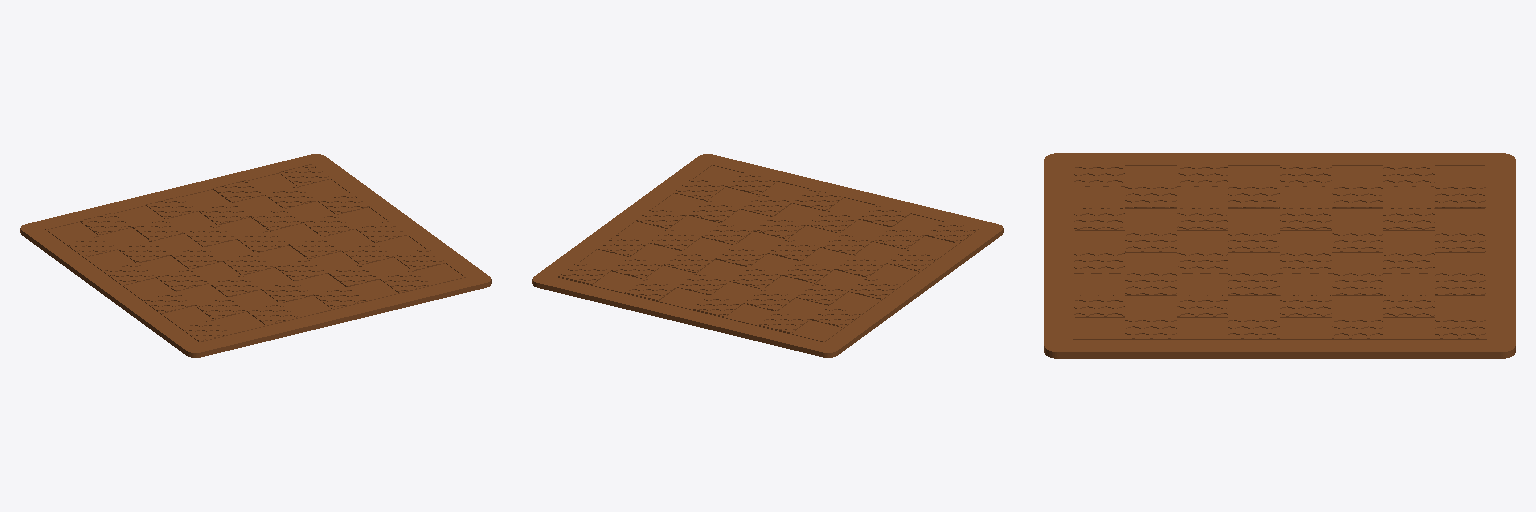
URDF robot description (the_turk_chess_environment):
<?xml version="1.0"?>

<robot name="the_turk_chess_environment">

    <!-- ================================================== -->
    <!-- WORLD                                              -->
    <!-- ================================================== -->

    <link name="world"/>


    <!-- ================================================== -->
    <!-- CHESS BOARD                                        -->
    <!-- ================================================== -->

    <link name="chess_board">

        <!-- Visual geometry -->
        <visual>

            <origin
                xyz="0 0 0"
                rpy="0 0 0"/>

            <geometry>

                <mesh
                    filename="package://the_turk_core/meshes/environment/chess_board.stl"
                    scale="1 1 1"/>

            </geometry>

            <material name="board_material">

                <color
                    rgba="0.55 0.35 0.20 1.0"/>

            </material>

        </visual>


        <!-- Collision geometry -->
        <collision>

            <origin
                xyz="0 0 0"
                rpy="0 0 0"/>

            <geometry>

                <mesh
                    filename="package://the_turk_core/meshes/environment/chess_board.stl"
                    scale="1 1 1"/>

            </geometry>

        </collision>


        <!-- Inertial data -->
        <inertial>

            <origin
                xyz="0 0 0"
                rpy="0 0 0"/>

            <mass
                value="2.0"/>

            <inertia
                ixx="0.027"
                ixy="0.0"
                ixz="0.0"
                iyy="0.027"
                iyz="0.0"
                izz="0.053"/>

        </inertial>

    </link>


    <!-- ================================================== -->
    <!-- WORLD -> CHESS BOARD                               -->
    <!-- ================================================== -->

    <joint
        name="world_to_chess_board"
        type="fixed">

        <parent
            link="world"/>

        <child
            link="chess_board"/>

        <origin
            xyz="0 0 0"
            rpy="0 0 0"/>

    </joint>

</robot>

--- Render facts (derived) ---
3 views of the same robot in one strip: view 1: azimuth 30°, elevation 25°; view 2: azimuth 150°, elevation 25°; view 3: azimuth 270°, elevation 25° (orthographic).
Model the_turk_chess_environment with 2 links and 1 joints (1 fixed), rooted at world, posed all joints at 0.
Links seen in each view (by area): view 1: chess_board; view 2: chess_board; view 3: chess_board.
Link boxes in pixels (x1=…): chess_board: x1=20, y1=154, x2=491, y2=357; chess_board: x1=532, y1=154, x2=1003, y2=357; chess_board: x1=1044, y1=153, x2=1515, y2=358.
Size in the robot's own frame: 190 by 190 by 3.69 metres.
1 mesh visuals loaded from 1 distinct referenced files (1 binary STL).
